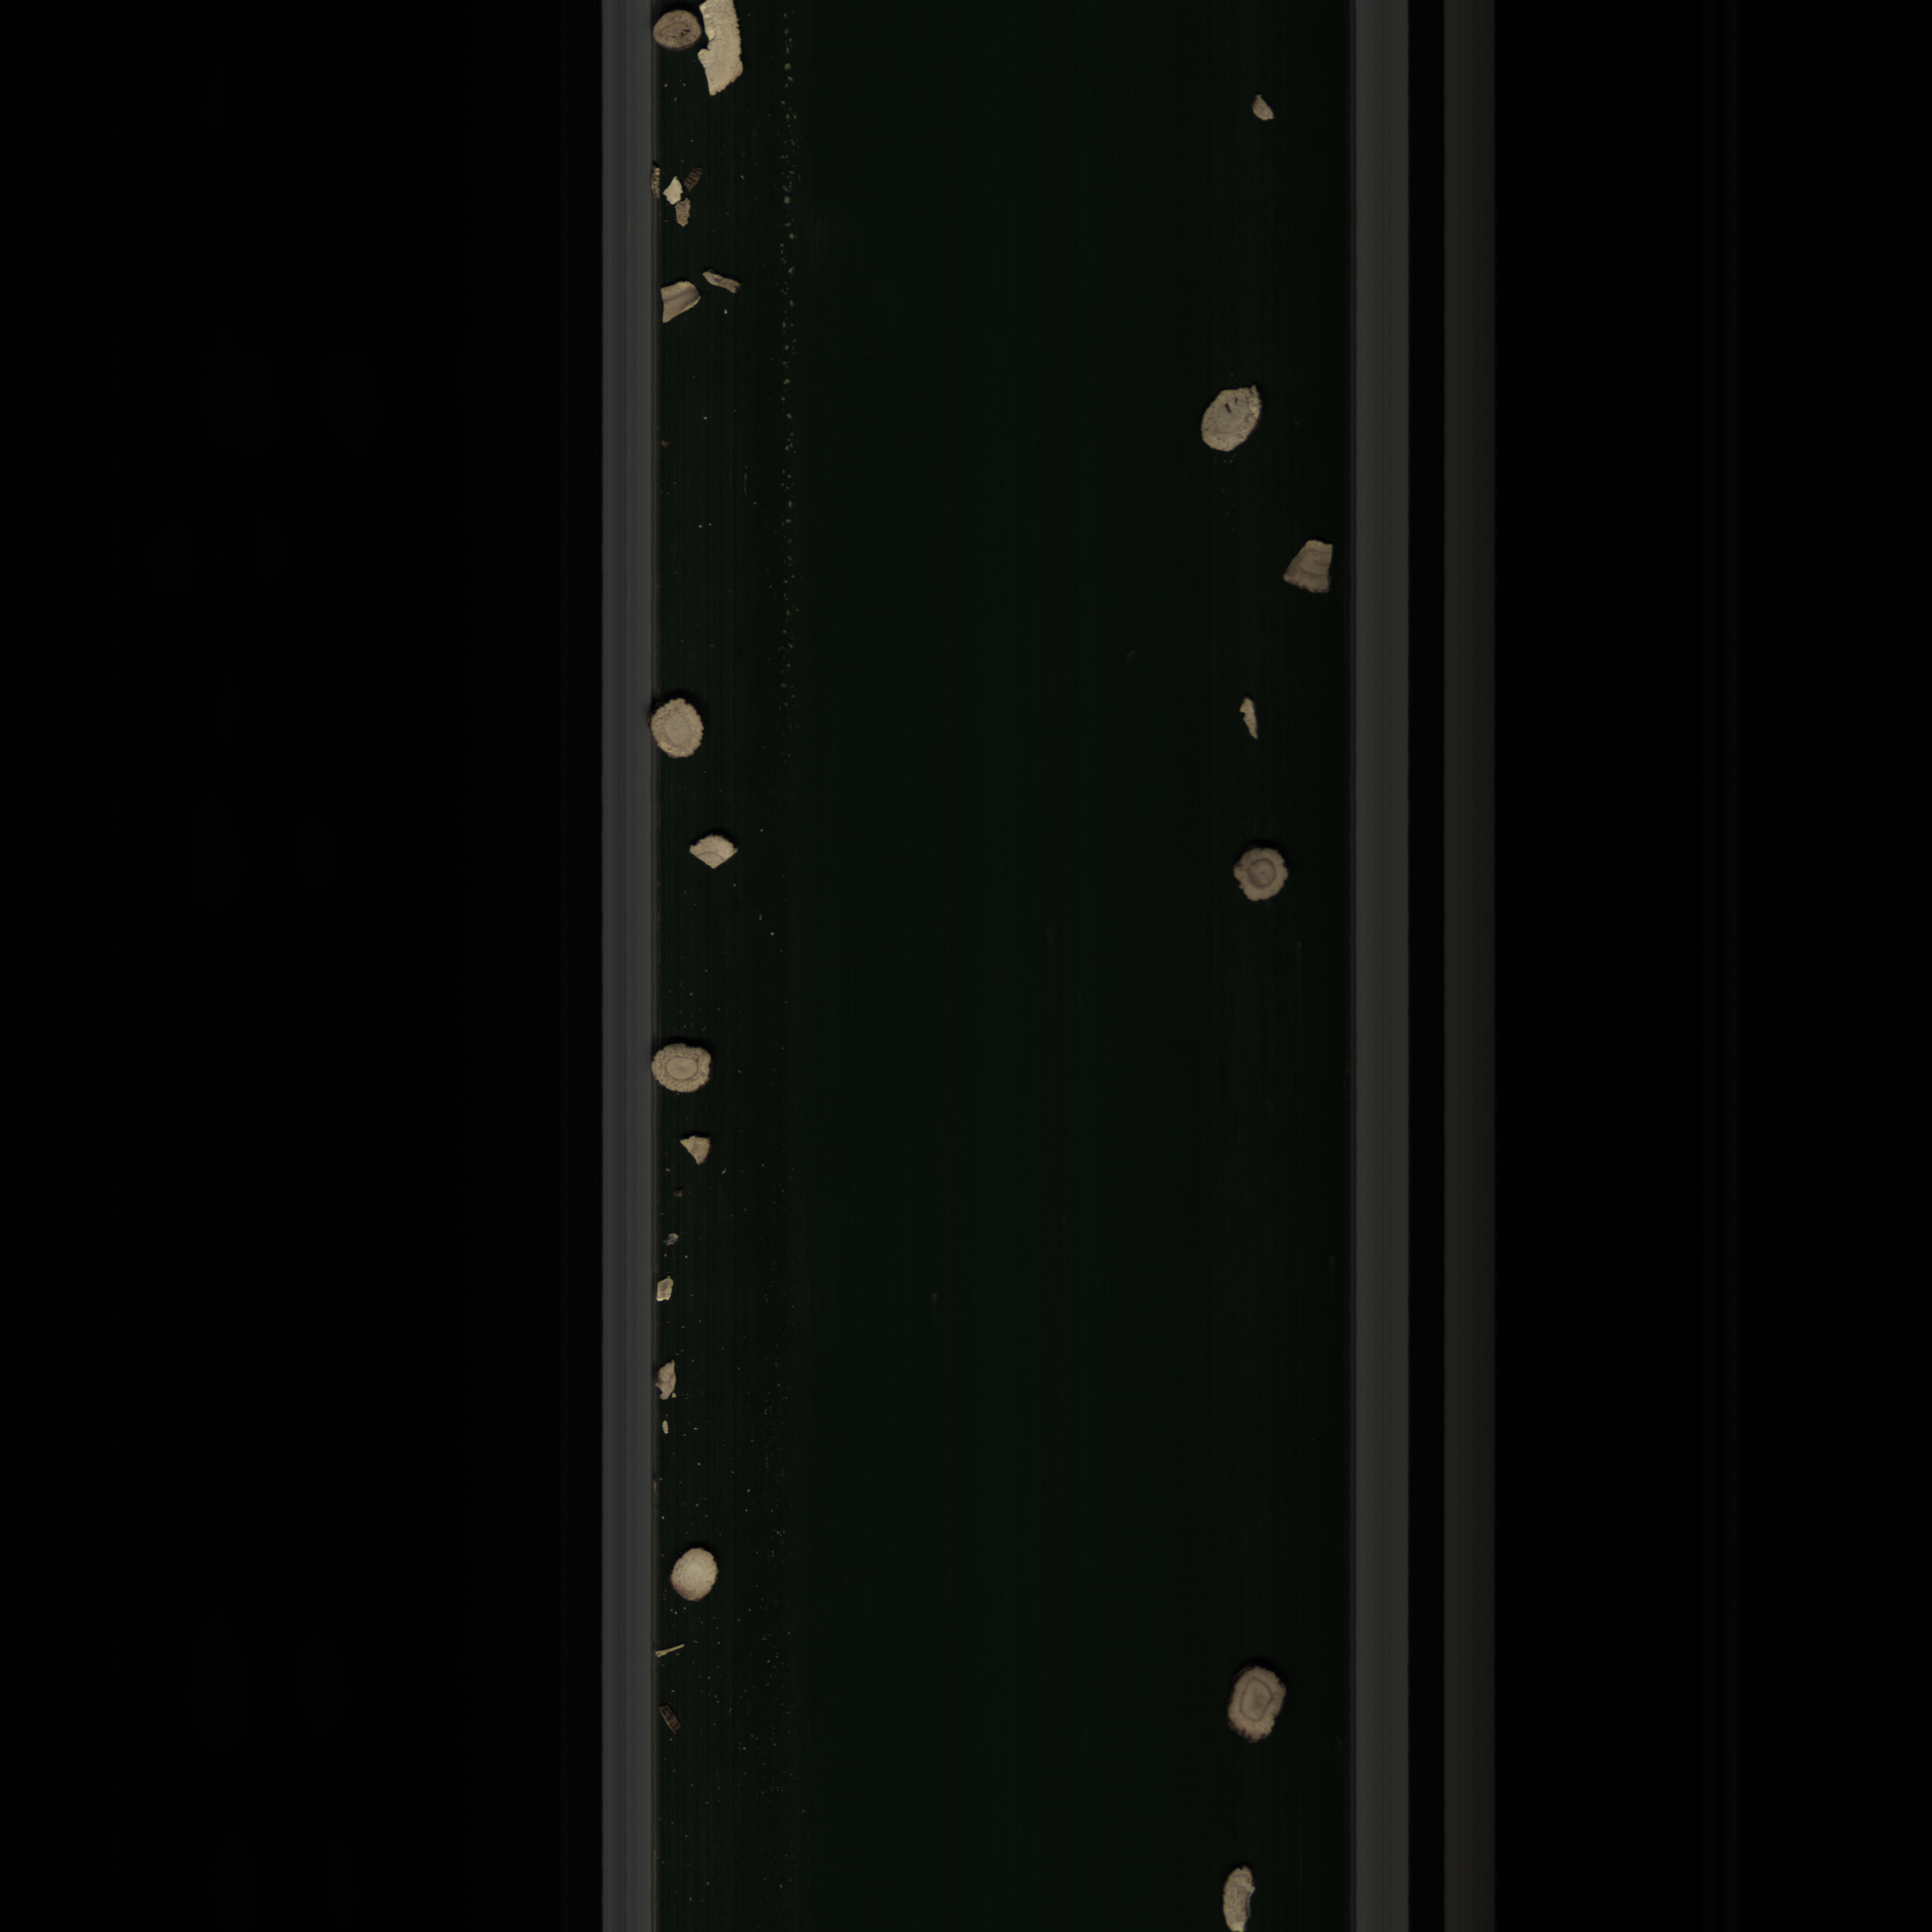debris: (697, 11, 764, 92), (651, 163, 713, 235), (1215, 1863, 1261, 1932), (648, 278, 711, 326), (688, 833, 738, 872), (676, 1134, 720, 1169), (653, 1359, 685, 1399), (701, 267, 743, 295), (655, 1270, 676, 1304)
hole: (1194, 382, 1267, 462)
moldy: (1226, 1661, 1293, 1748), (1223, 839, 1292, 906), (1281, 534, 1334, 600), (648, 7, 701, 55)
